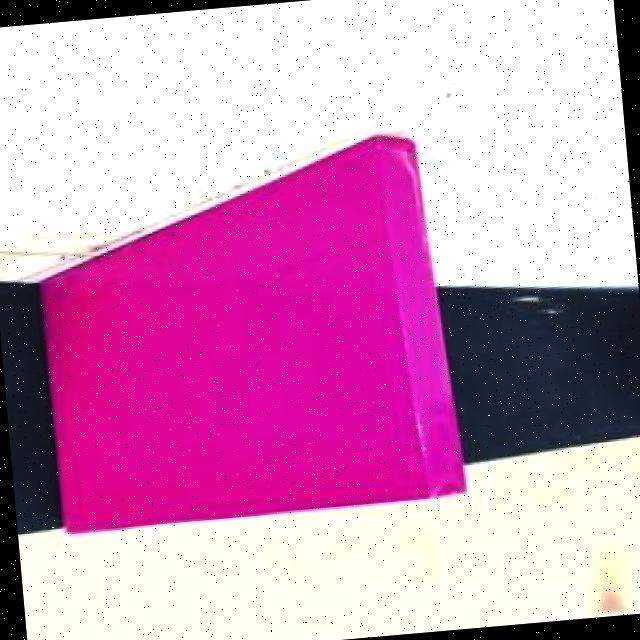xparking: (39, 182, 442, 519)
